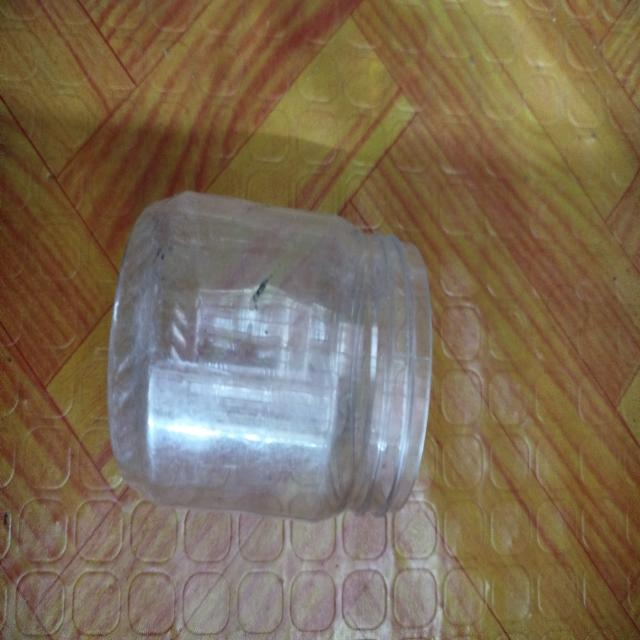plastic: (97, 180, 461, 536)
